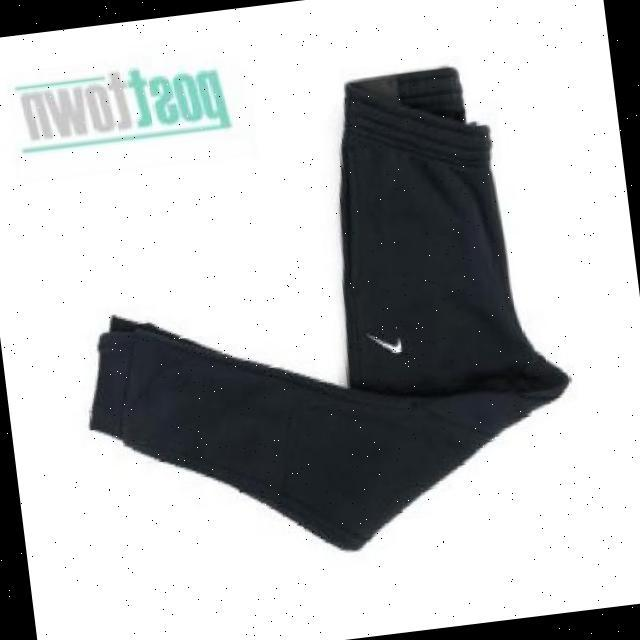Nike: (370, 324, 406, 354)
